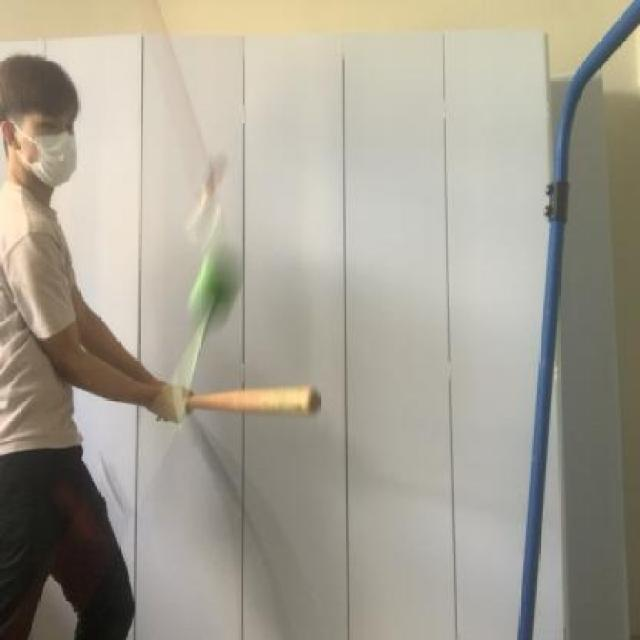baseball: (184, 222, 256, 344)
